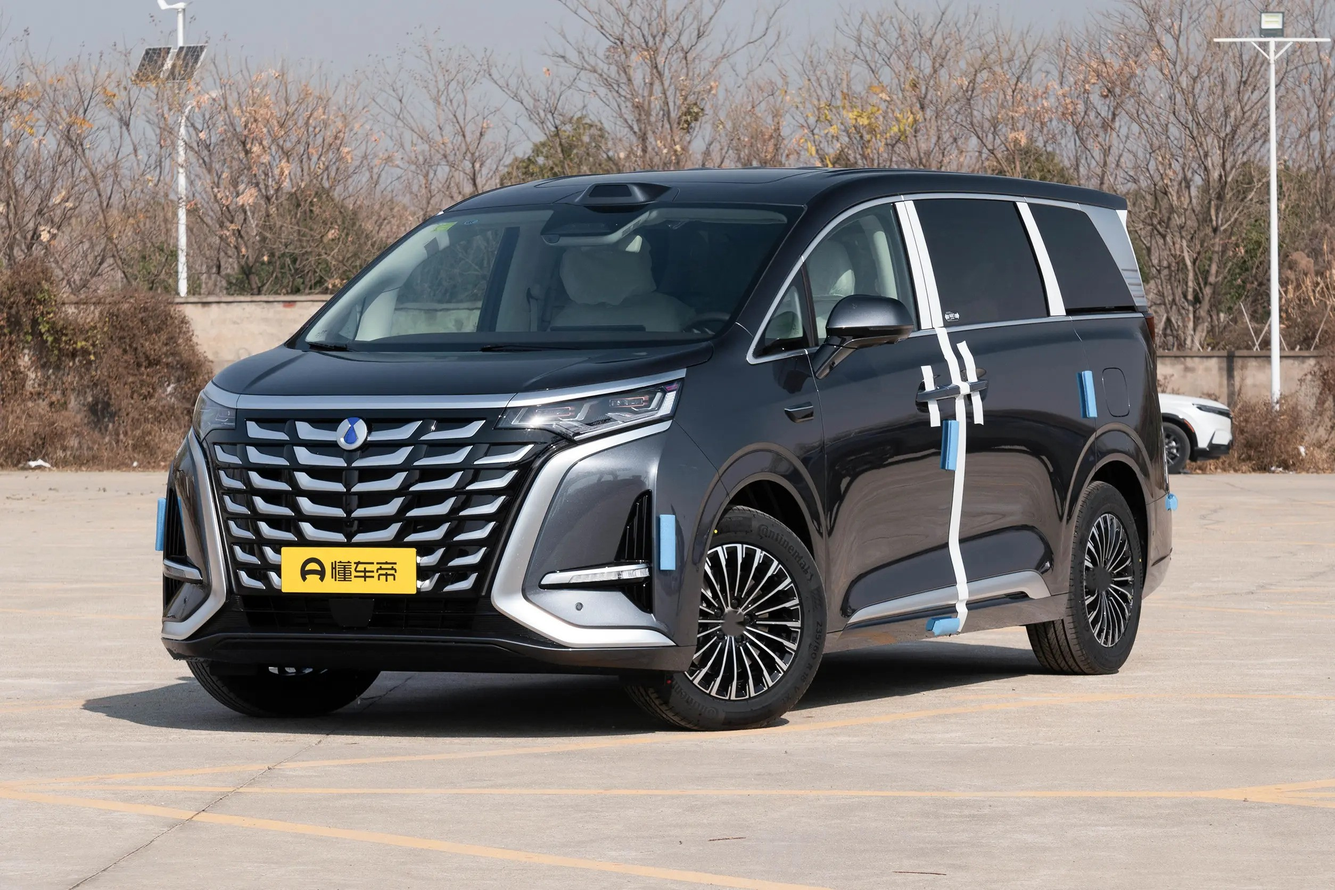DENZA: (336, 417, 367, 449)
